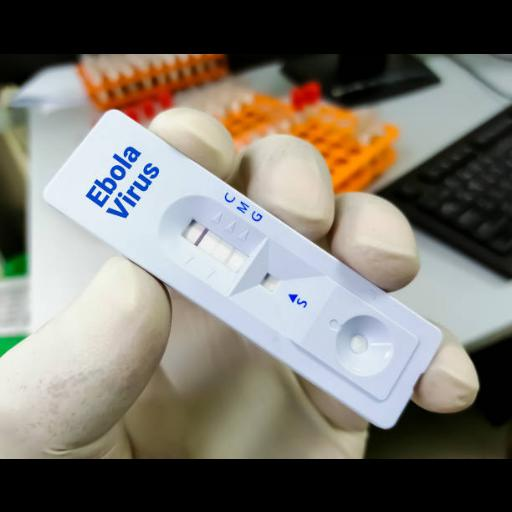Neg: (40, 104, 447, 432)
